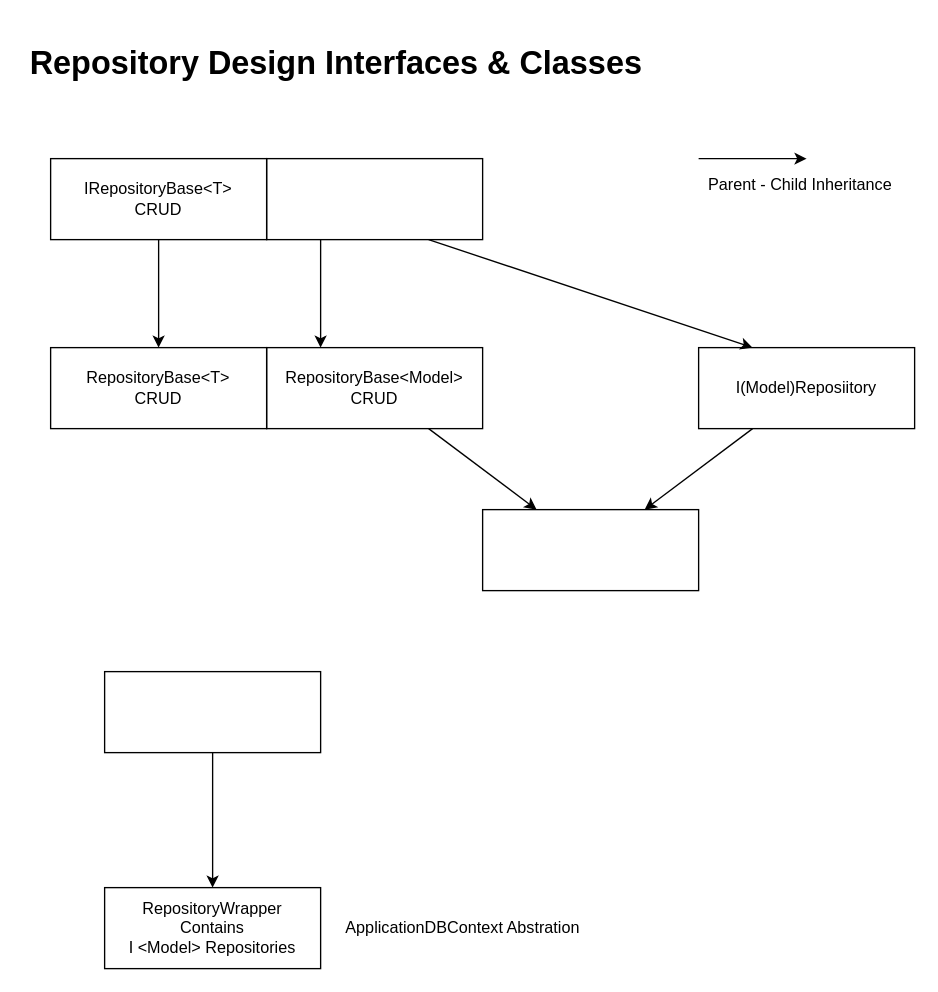
Image size: 938x992. Some labels were removed from this diagram. Each missing label, with the centre of its shape:
"(Model)Repository" belongs at pixel 590 549.
"IRepositoryBase<Model> CRUD" belongs at pixel 374 198.
"IRepositoryWrapper Contains I<Model>Repositories" belongs at pixel 212 711.
